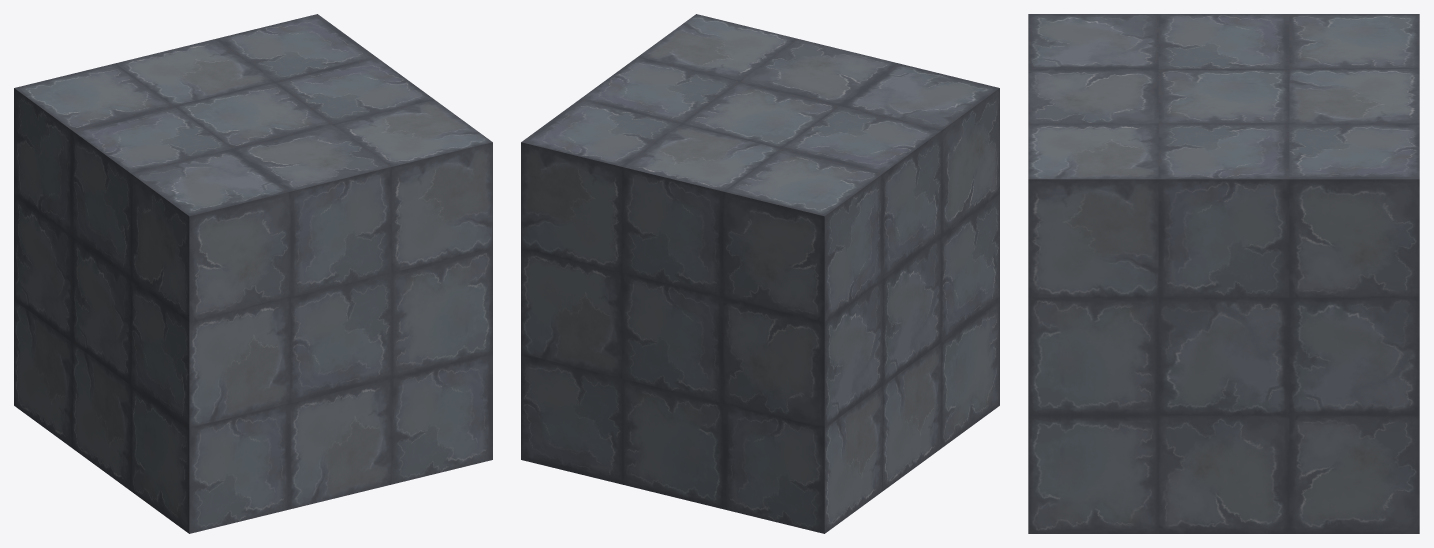
Rendered from Castle Block 3x3x3.fbx.
3 renders of one model, left to right at view 1: azimuth 30°, elevation 25°; view 2: azimuth 150°, elevation 25°; view 3: azimuth 270°, elevation 25°, orthographic. The views are drawn at different scales.
Parts seen in each view (by area): view 1: Castle Block 3x3x3; view 2: Castle Block 3x3x3; view 3: Castle Block 3x3x3.
Boxes of the visible parts, x1=… form: Castle Block 3x3x3: x1=14, y1=14, x2=492, y2=533; Castle Block 3x3x3: x1=521, y1=14, x2=999, y2=533; Castle Block 3x3x3: x1=1028, y1=14, x2=1419, y2=533.
Size of the model in its own units: 2.25 by 2.25 by 2.25.
